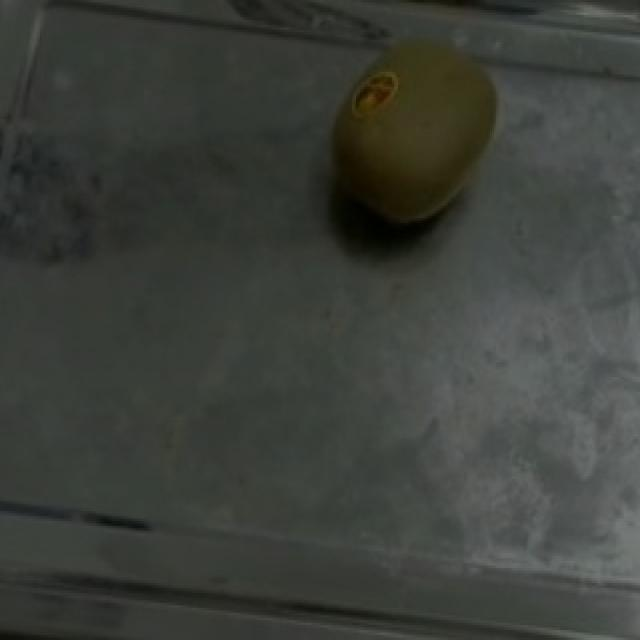Fruit: (304, 29, 514, 240)
